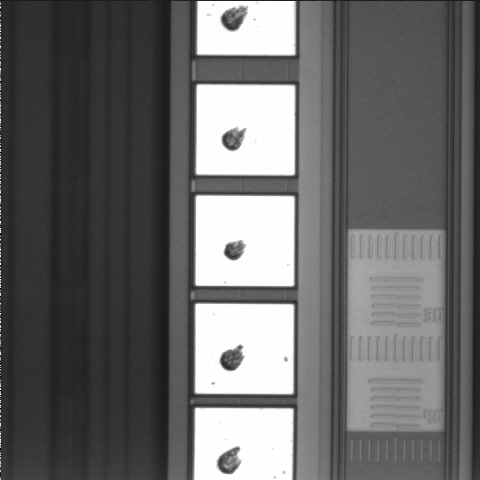pad: (196, 85, 295, 175), (195, 304, 294, 394), (196, 196, 294, 286)
